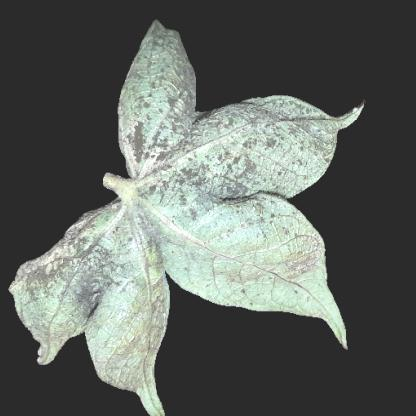curl_stage2: (263, 246, 322, 312), (186, 246, 252, 294), (105, 328, 158, 382)
sooty: (141, 106, 311, 212), (39, 209, 145, 315), (132, 43, 183, 107)
